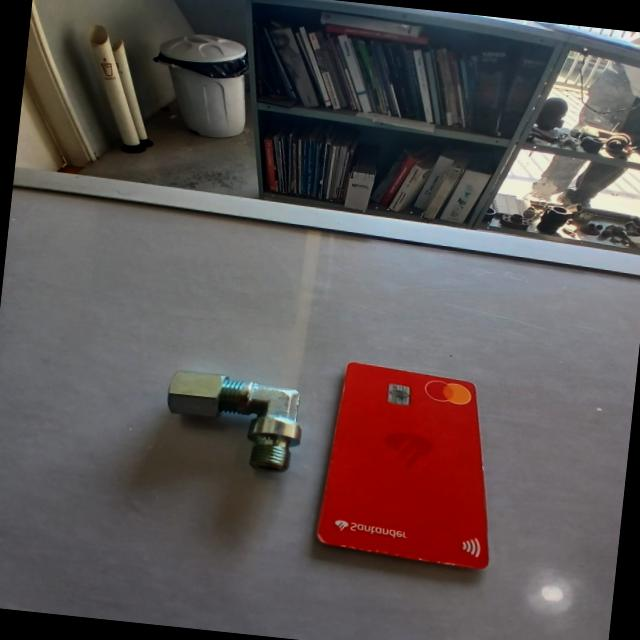cartao: (312, 352, 506, 575)
rosca_externa: (160, 369, 306, 472)
